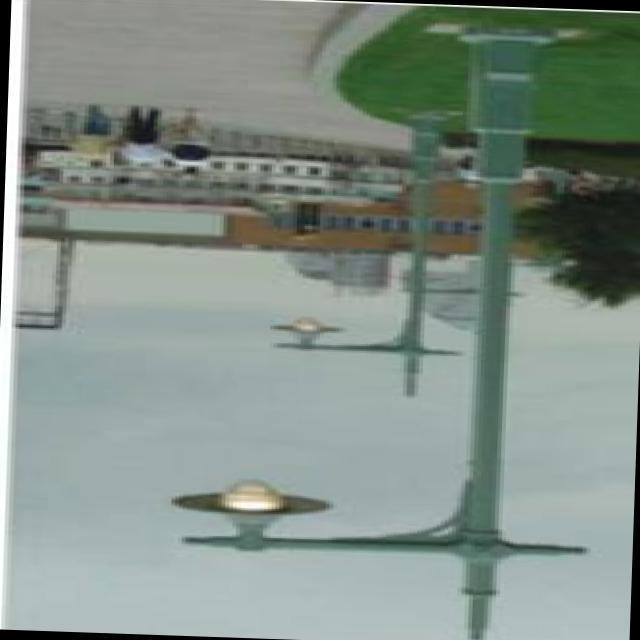on: (155, 433, 356, 602)
